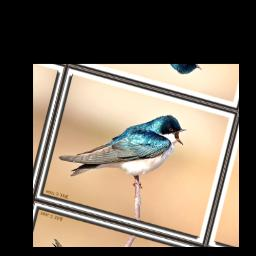Swallow: (53, 87, 192, 205)
